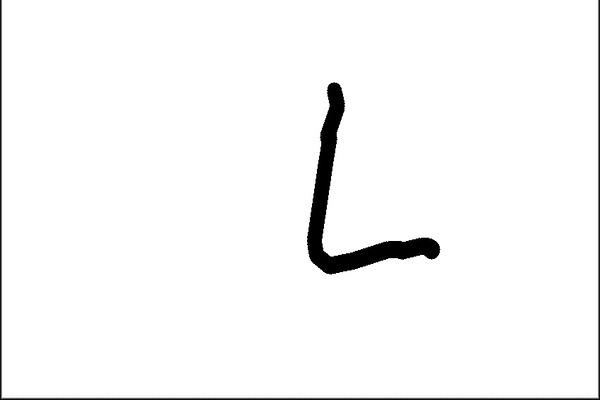L: (300, 77, 446, 278)
